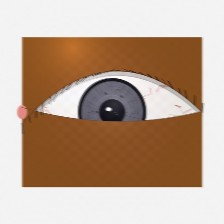pterygium_lesion: (162, 96, 201, 128)
